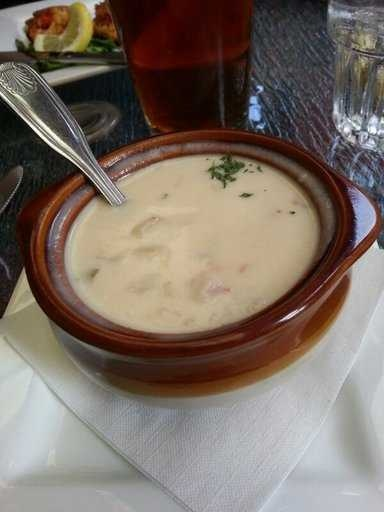soup: (28, 133, 329, 362)
